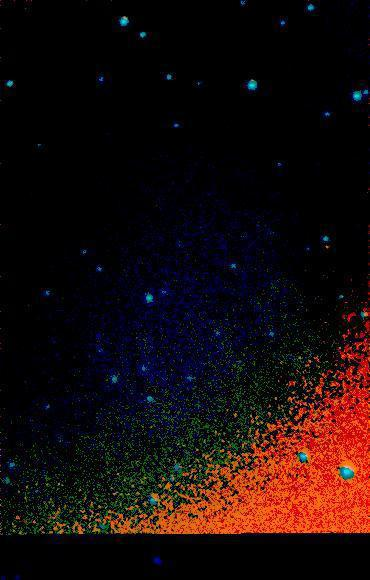star: (311, 233, 341, 263)
